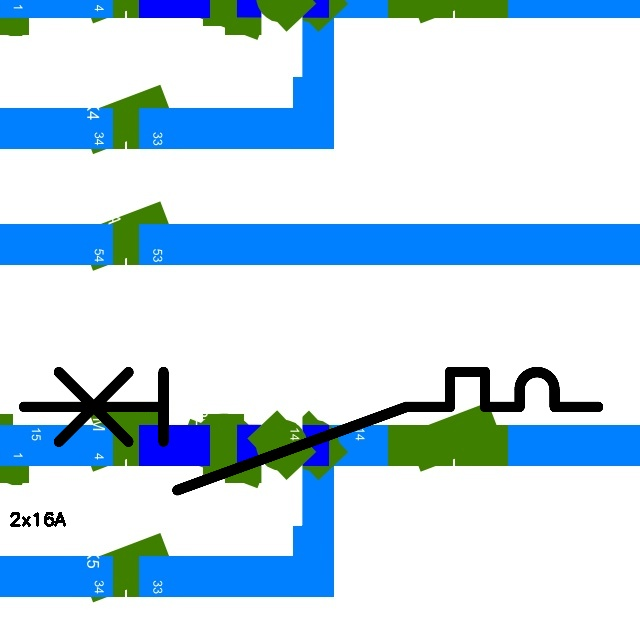interruptor_termomagnetico: (9, 357, 613, 505)
